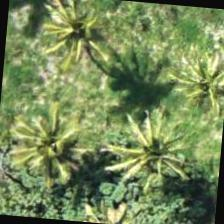Kelapa_Sawit: (102, 104, 200, 202), (0, 91, 96, 190), (20, 0, 118, 80), (159, 34, 223, 130)
